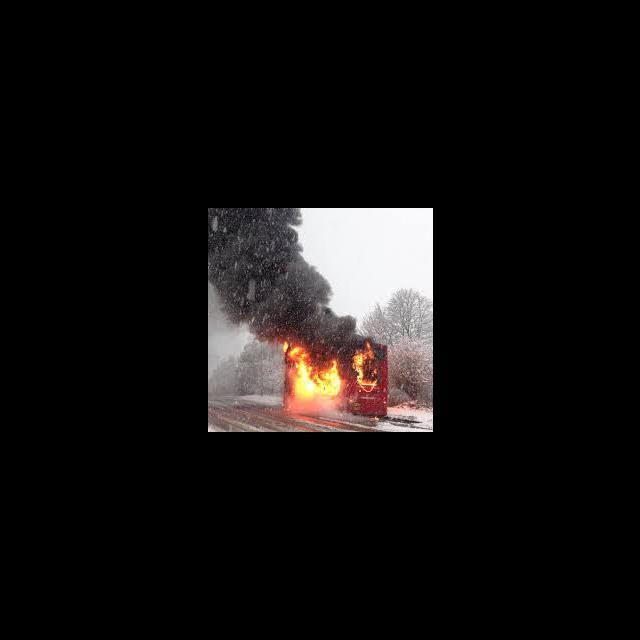Fire: (283, 341, 343, 400), (352, 338, 378, 390)
Smoke: (208, 208, 306, 302), (248, 275, 335, 335), (331, 316, 357, 336)
